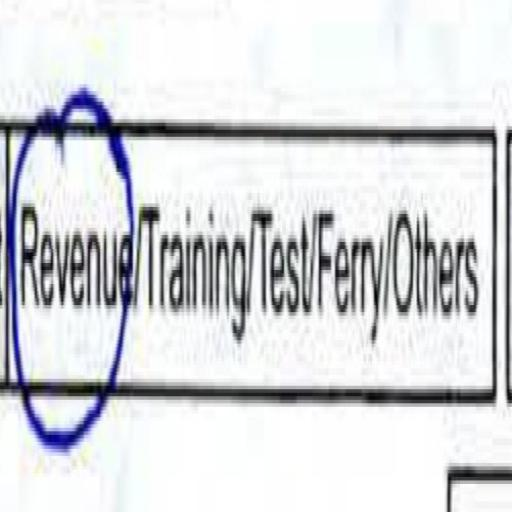check: (12, 79, 130, 467)
